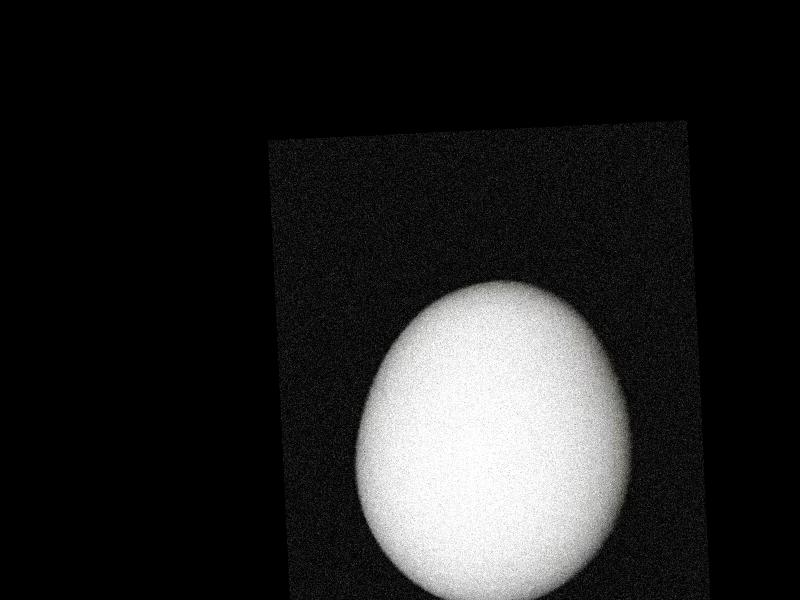Eggs: (348, 278, 632, 600)
